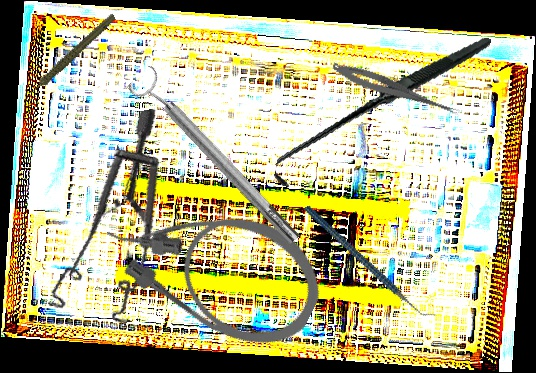Cannula: (89, 162, 338, 366)
Chopper: (302, 176, 438, 347)
Fixation Ring: (125, 62, 308, 254)
Handpiece: (12, 12, 128, 97)
Hook Surgical: (272, 5, 492, 218)
Micro Scissor: (329, 58, 464, 120)
Speculum: (13, 108, 196, 337)
